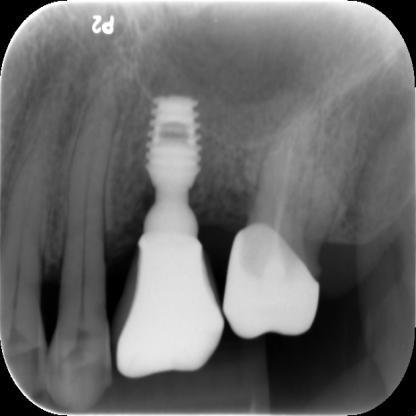Bicon: (145, 96, 204, 214)
